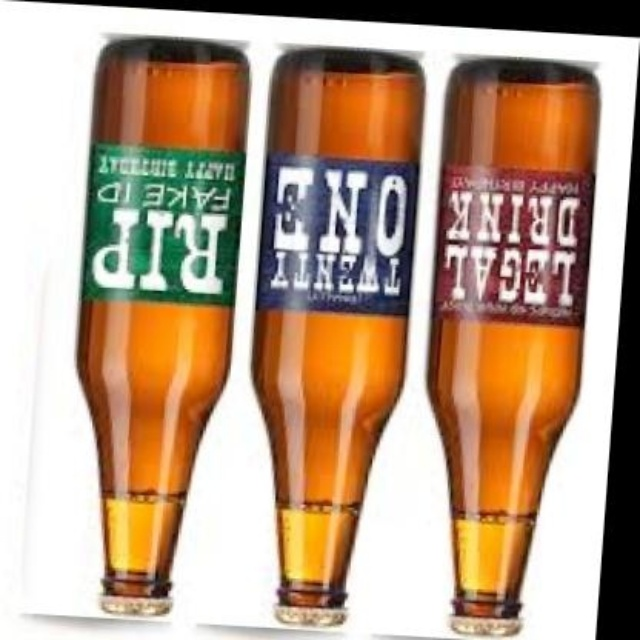trash: (254, 49, 422, 625), (78, 40, 246, 614), (429, 60, 597, 634)
